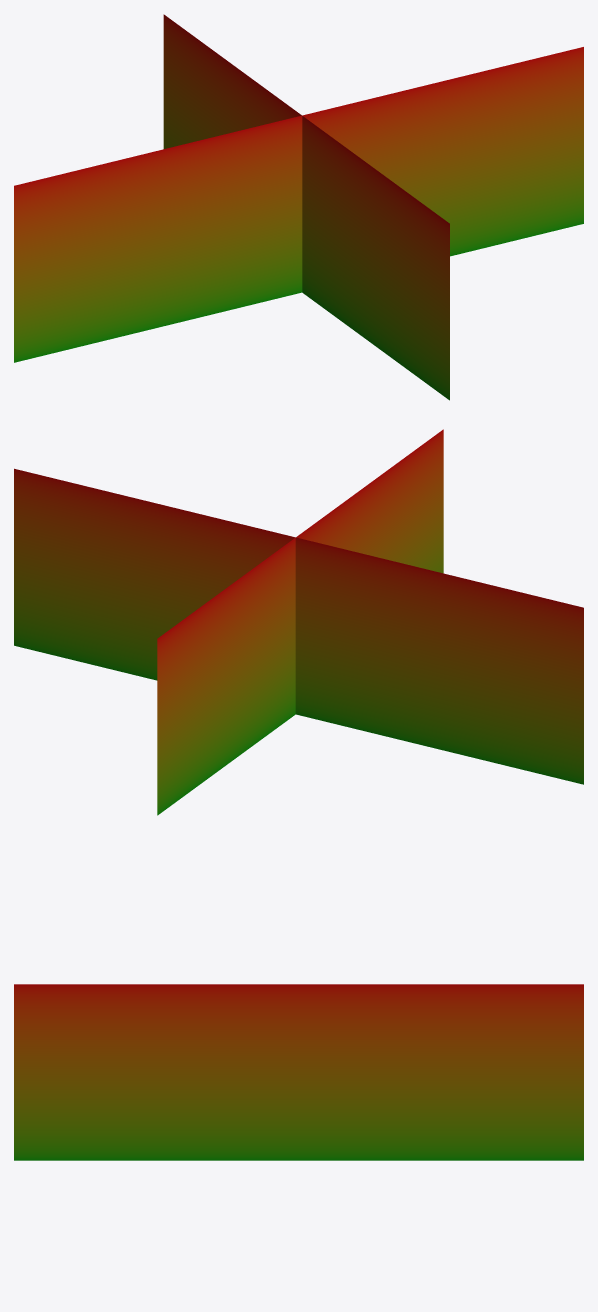
The model's file is Grass Clumps_LOD3_Var2_qmBr2.fbx.
3 renders of one model, top to bottom at view 1: azimuth 30°, elevation 25°; view 2: azimuth 150°, elevation 25°; view 3: azimuth 270°, elevation 25°, orthographic.
Parts seen in each view (by area): view 1: _819a_Var2_LOD3; view 2: _819a_Var2_LOD3; view 3: _819a_Var2_LOD3.
Boxes of the visible parts, x1,y1,x2,y2 form: _819a_Var2_LOD3: (14,14,583,400); _819a_Var2_LOD3: (14,429,583,815); _819a_Var2_LOD3: (14,984,583,1160).
Size of the model in its own units: 75.5 by 22.41 by 65.69.
